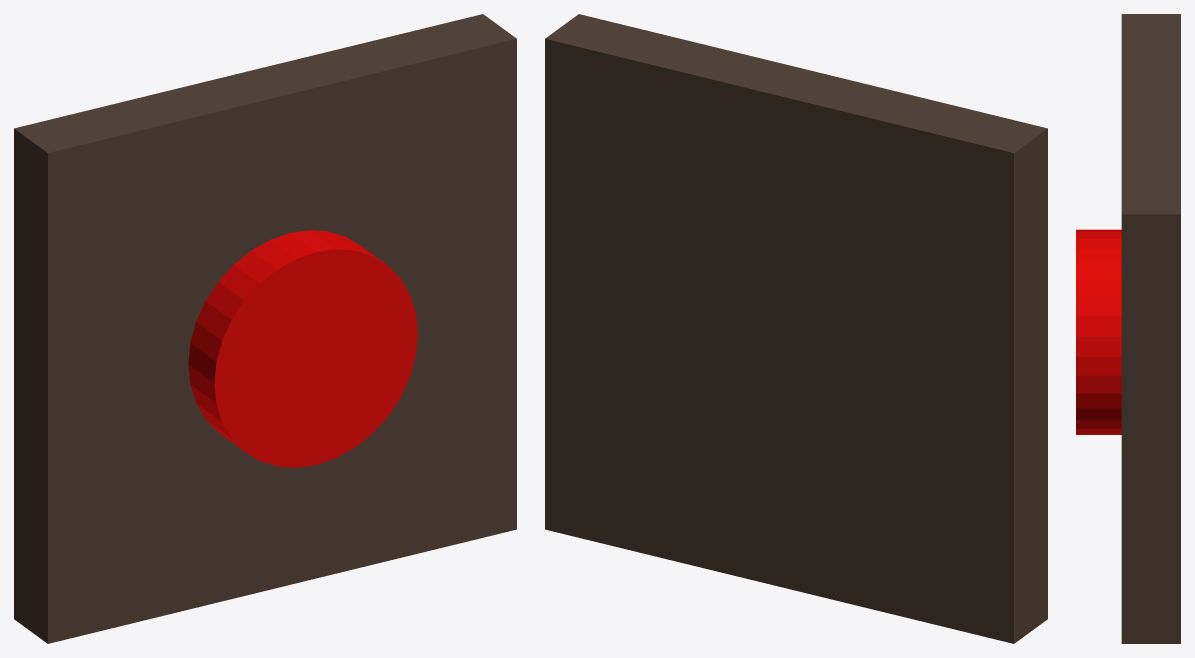
Rendered from button.fbx.
3 views of the same model, side by side, from view 1: azimuth 30°, elevation 25°; view 2: azimuth 150°, elevation 25°; view 3: azimuth 270°, elevation 25° (orthographic). The views are drawn at different scales.
Parts seen in each view (by area): view 1: Cube.005, Cylinder; view 2: Cube.005; view 3: Cube.005, Cylinder.
Part boxes in pixels (<box>): Cube.005: <box>14,14,516,643</box>; Cylinder: <box>188,230,417,467</box>; Cube.005: <box>545,14,1047,643</box>; Cube.005: <box>1121,14,1180,643</box>; Cylinder: <box>1076,229,1121,434</box>.
Size of the model in its own units: 200 by 200 by 44.25.
